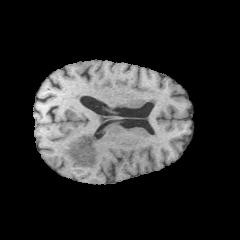glioma: (58, 129, 108, 173)
